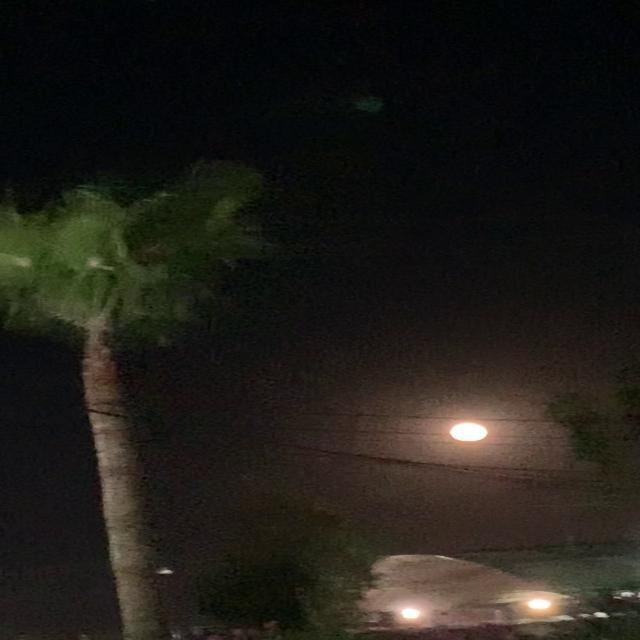moon: (432, 417, 490, 445)
